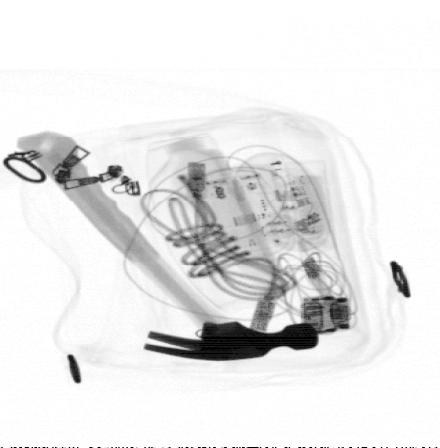Hammer: (14, 130, 320, 361)
